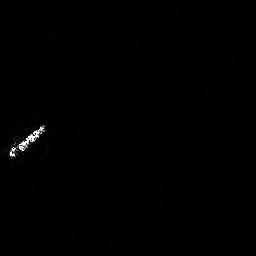ship: (3, 119, 50, 164)
